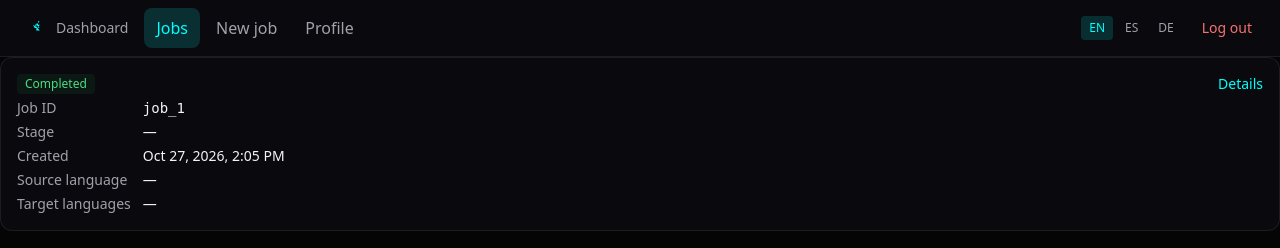
Test case: Nav UI language switch › formats dates for the selected language
The image size is (1280, 248).
Expected: the text "Oct 27, 2026, 2:05 PM" is shown, [143,146,285,165]
What coordinates should you click on to do the following:
click the button with aria-label "Español"
I would click on:
 (1132, 28)
Its box is [1117,16,1146,40].
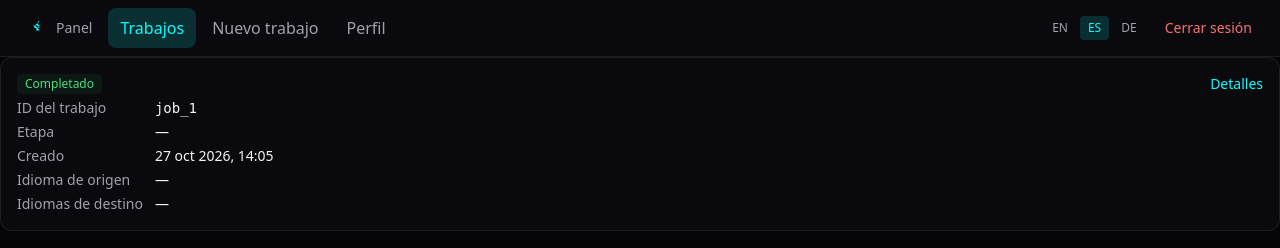
Result: the text "27 oct 2026, 14:05" is shown at [155,146,274,165]
